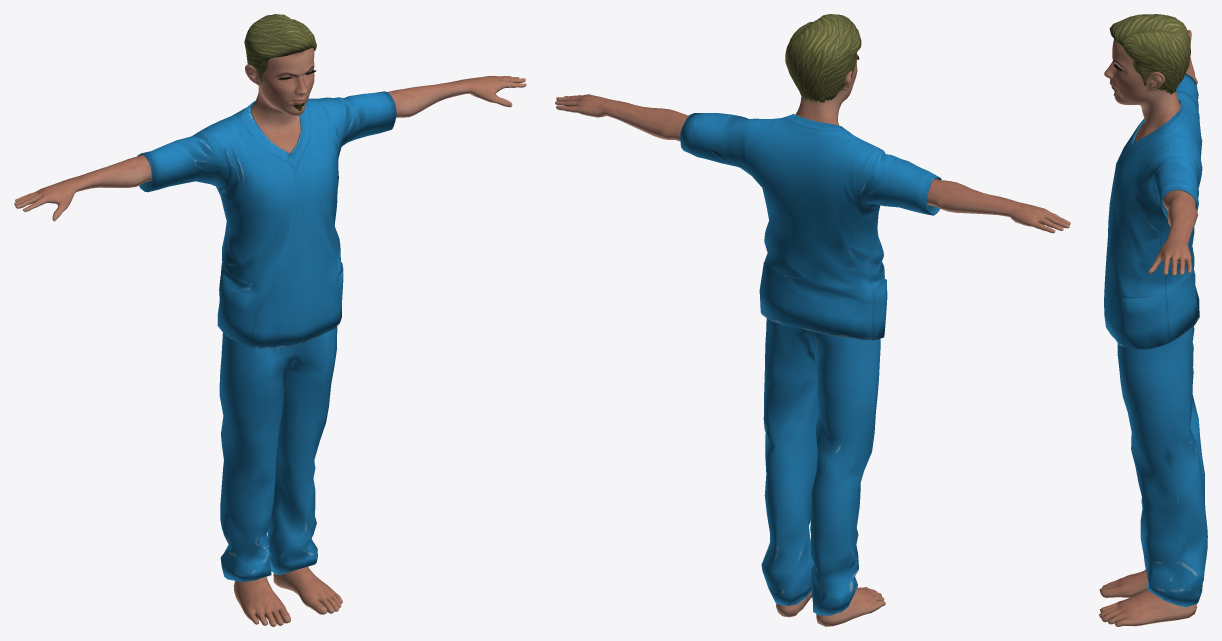
Rendered from hero in coma hospital outfit.obj.
3 renders of one model, left to right at view 1: azimuth 30°, elevation 25°; view 2: azimuth 150°, elevation 25°; view 3: azimuth 270°, elevation 25°, orthographic.
Parts seen in each view (by area): view 1: Tops, Bottoms, Body, Hair; view 2: Tops, Bottoms, Body, Hair; view 3: Tops, Bottoms, Body, Hair.
Part boxes in pixels (left/top/right/bottom): Tops: left=137, top=91, right=396, bottom=348; Bottoms: left=219, top=326, right=337, bottom=581; Body: left=14, top=48, right=526, bottom=626; Hair: left=244, top=14, right=316, bottom=83; Tops: left=680, top=113, right=941, bottom=340; Bottoms: left=761, top=318, right=880, bottom=615; Body: left=555, top=52, right=1070, bottom=626; Hair: left=785, top=14, right=861, bottom=102; Tops: left=1104, top=73, right=1202, bottom=349; Bottoms: left=1117, top=326, right=1207, bottom=607; Body: left=1099, top=30, right=1198, bottom=626; Hair: left=1109, top=14, right=1190, bottom=94.
Size of the model in its own units: 156 by 171 by 28.46.
Materials: 5 (5 with a texture image).
